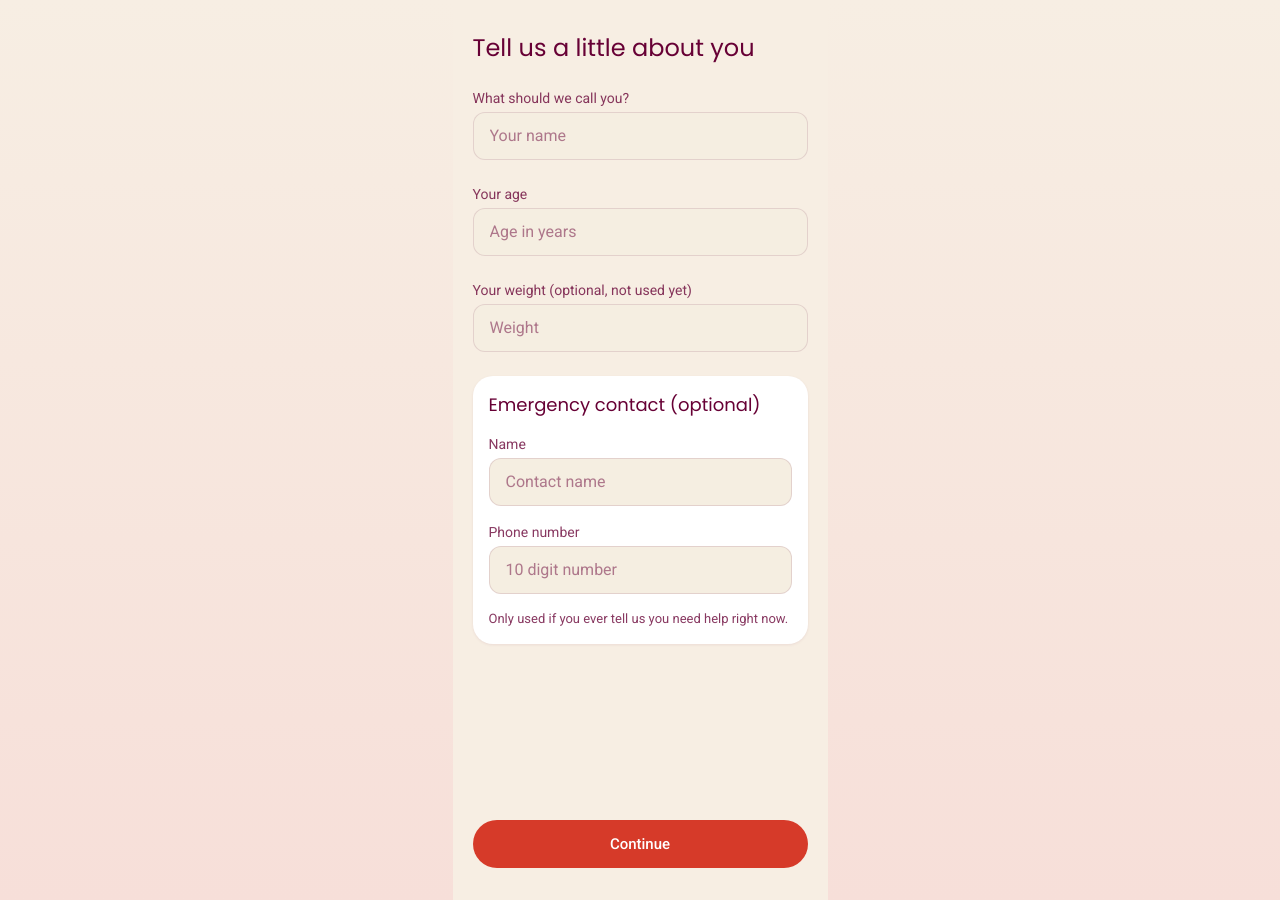
Test: OnboardingForm › goes back a step without losing what was already entered
The image size is (1280, 900).
Type "Priyanka" into the field labelled "What should we call you?" at (640, 136), box top-left (472, 112), bottom-right (808, 160)
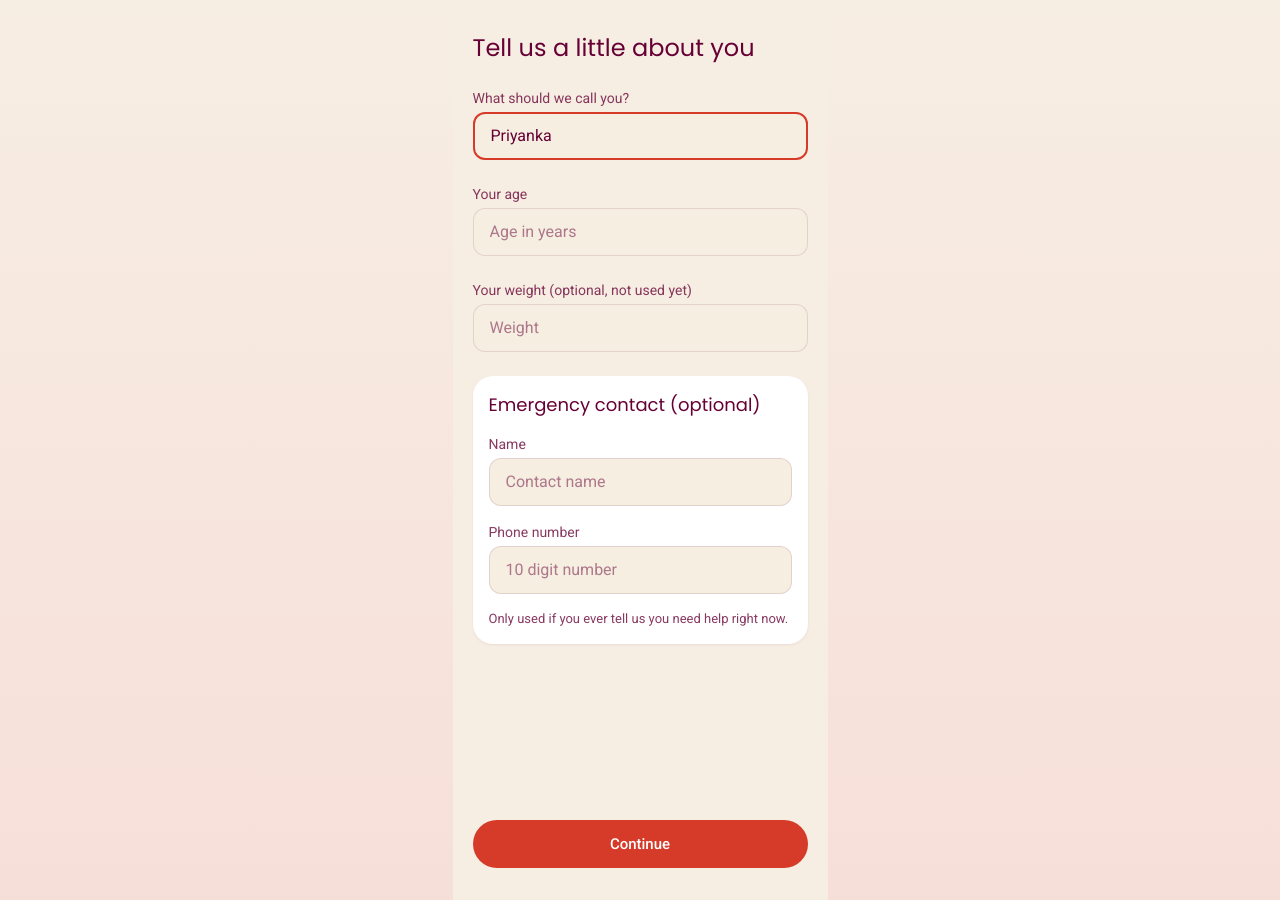
Click the button "Continue" at (640, 844), box top-left (472, 820), bottom-right (808, 868)
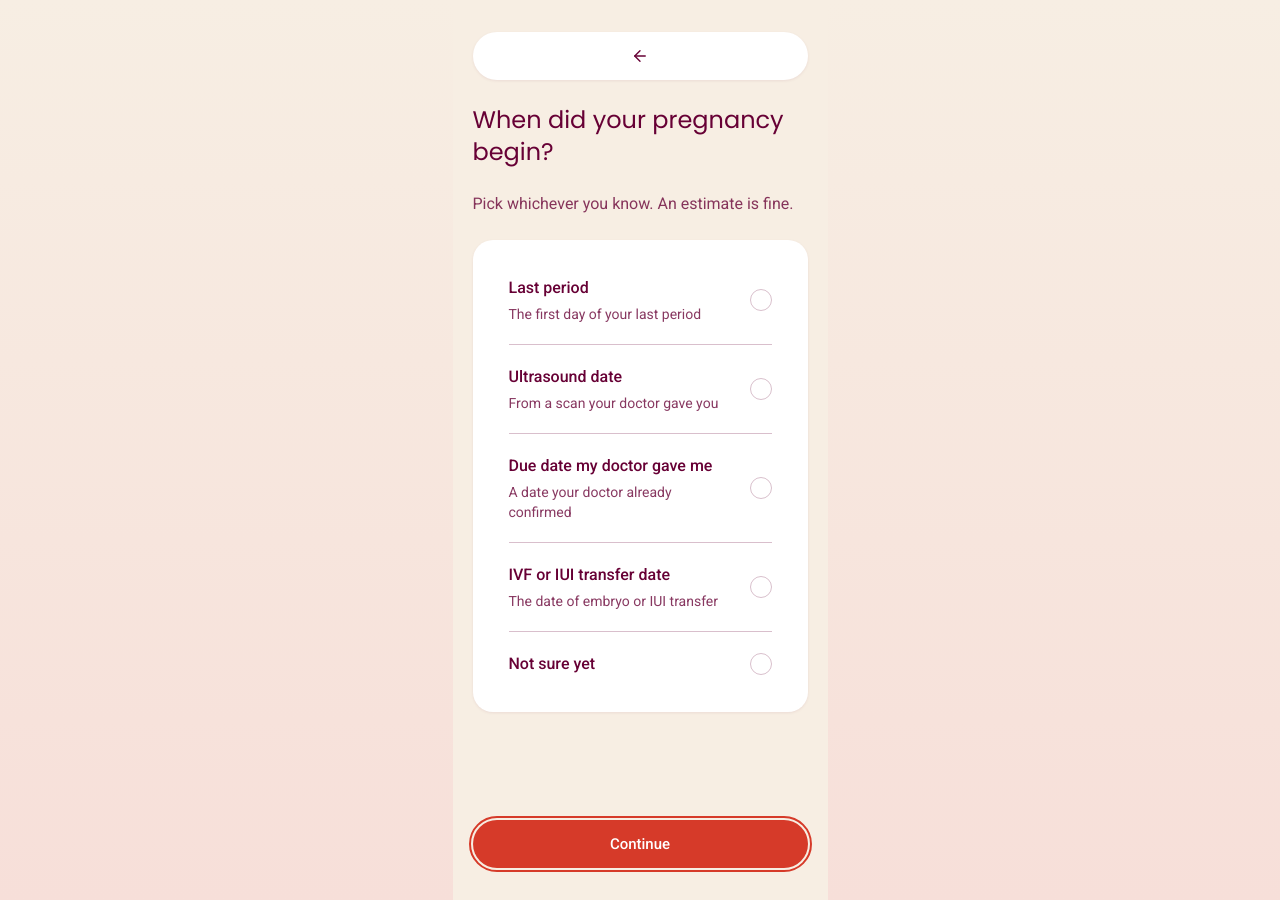
Click the button named "back" at (640, 56), box top-left (472, 32), bottom-right (808, 80)
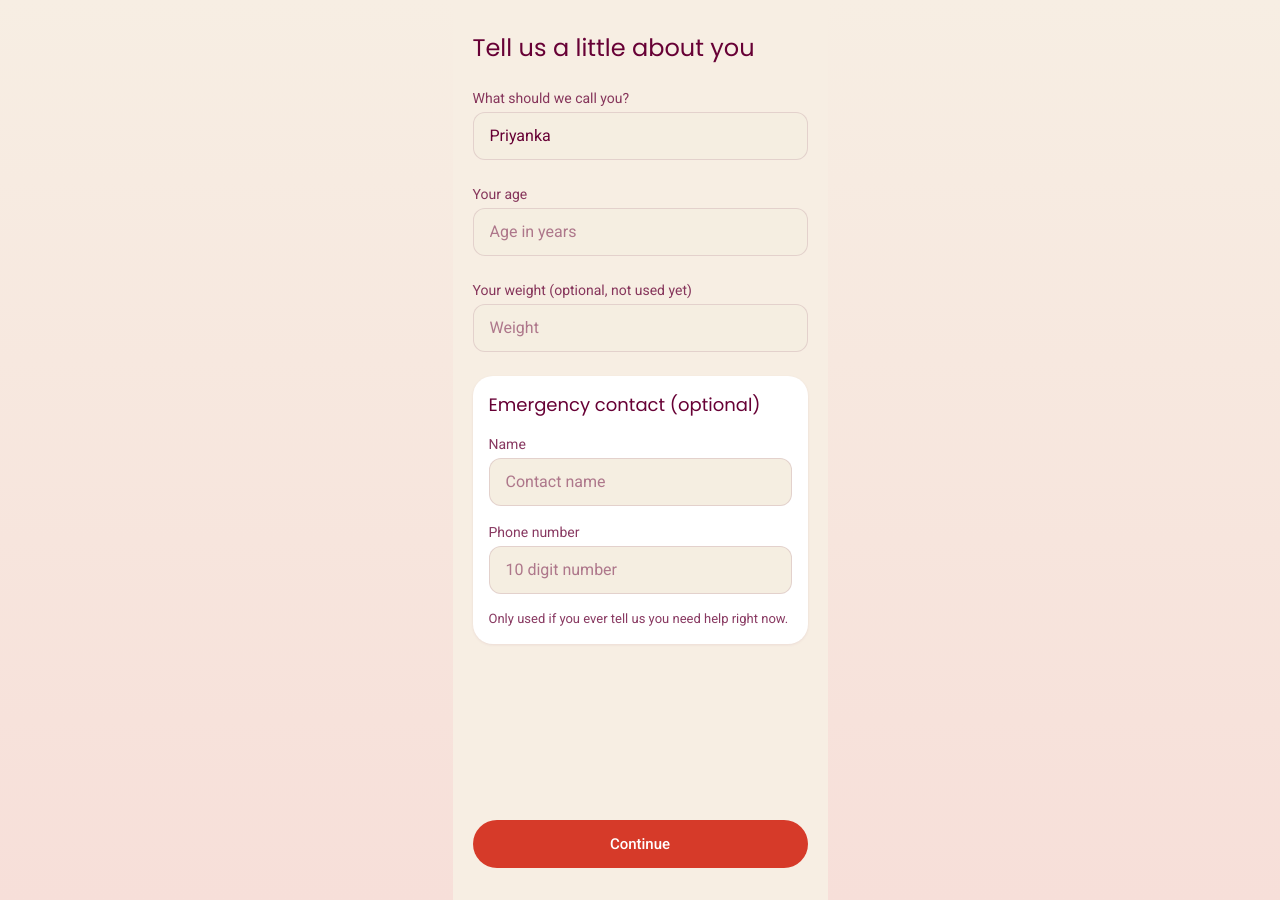
Check: the field labelled "What should we call you?" holds "Priyanka", box top-left (472, 112), bottom-right (808, 160)
